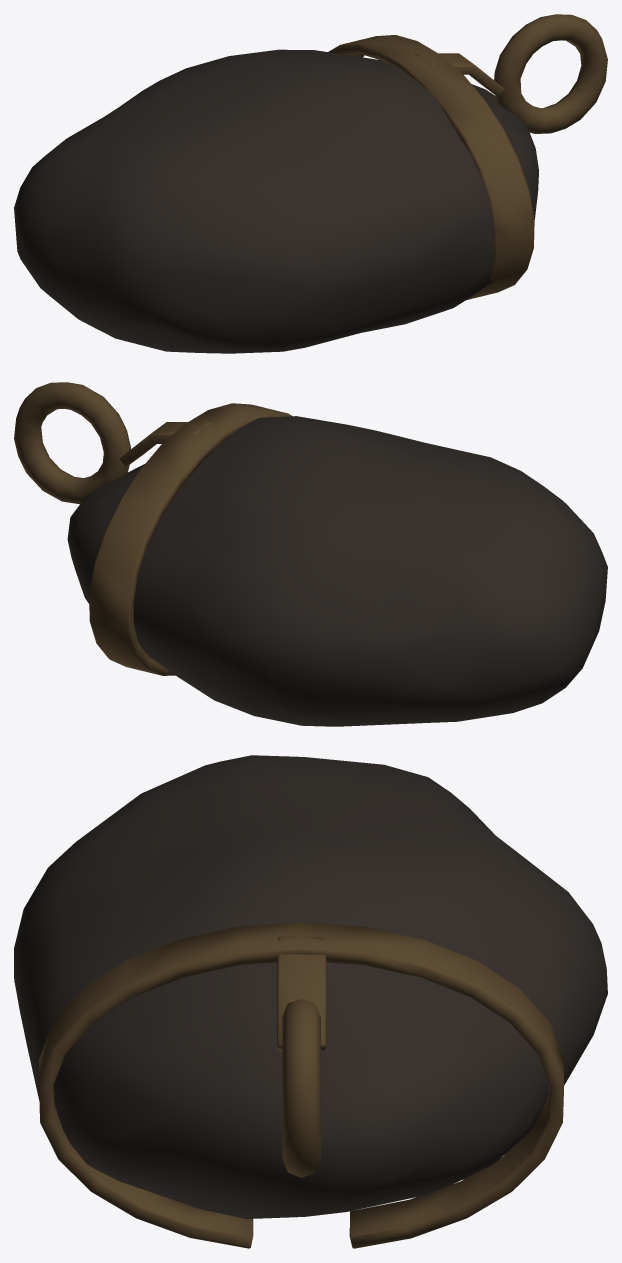
File: shi-command-weight-v1-lod1.glb
The picture shows the model from 3 angles, top to bottom: view 1: azimuth 30°, elevation 25°; view 2: azimuth 150°, elevation 25°; view 3: azimuth 270°, elevation 25°; orthographic projection. The views are drawn at different scales.
Visible parts, largest first — view 1: SM_SHI_CommandWeight_LOD1_Stone, SM_SHI_CommandWeight_LOD1_BronzeBand, SM_SHI_CommandWeight_LOD1_BronzeEye, SM_SHI_CommandWeight_LOD1_BronzeNeck; view 2: SM_SHI_CommandWeight_LOD1_Stone, SM_SHI_CommandWeight_LOD1_BronzeBand, SM_SHI_CommandWeight_LOD1_BronzeEye, SM_SHI_CommandWeight_LOD1_BronzeNeck; view 3: SM_SHI_CommandWeight_LOD1_Stone, SM_SHI_CommandWeight_LOD1_BronzeBand, SM_SHI_CommandWeight_LOD1_BronzeEye, SM_SHI_CommandWeight_LOD1_BronzeNeck.
Part boxes in pixels (box(x1,y1,x2,y2)): SM_SHI_CommandWeight_LOD1_Stone: box(14, 49, 538, 353); SM_SHI_CommandWeight_LOD1_BronzeBand: box(328, 35, 534, 299); SM_SHI_CommandWeight_LOD1_BronzeEye: box(494, 14, 607, 133); SM_SHI_CommandWeight_LOD1_BronzeNeck: box(414, 53, 504, 96); SM_SHI_CommandWeight_LOD1_Stone: box(67, 416, 607, 726); SM_SHI_CommandWeight_LOD1_BronzeBand: box(89, 403, 292, 675); SM_SHI_CommandWeight_LOD1_BronzeEye: box(14, 382, 130, 504); SM_SHI_CommandWeight_LOD1_BronzeNeck: box(119, 422, 211, 466); SM_SHI_CommandWeight_LOD1_Stone: box(14, 755, 607, 1218); SM_SHI_CommandWeight_LOD1_BronzeBand: box(39, 922, 564, 1248); SM_SHI_CommandWeight_LOD1_BronzeEye: box(282, 999, 320, 1177); SM_SHI_CommandWeight_LOD1_BronzeNeck: box(277, 936, 326, 1051).
Size of the model in its own units: 0.0848 by 0.0343 by 0.0555.
